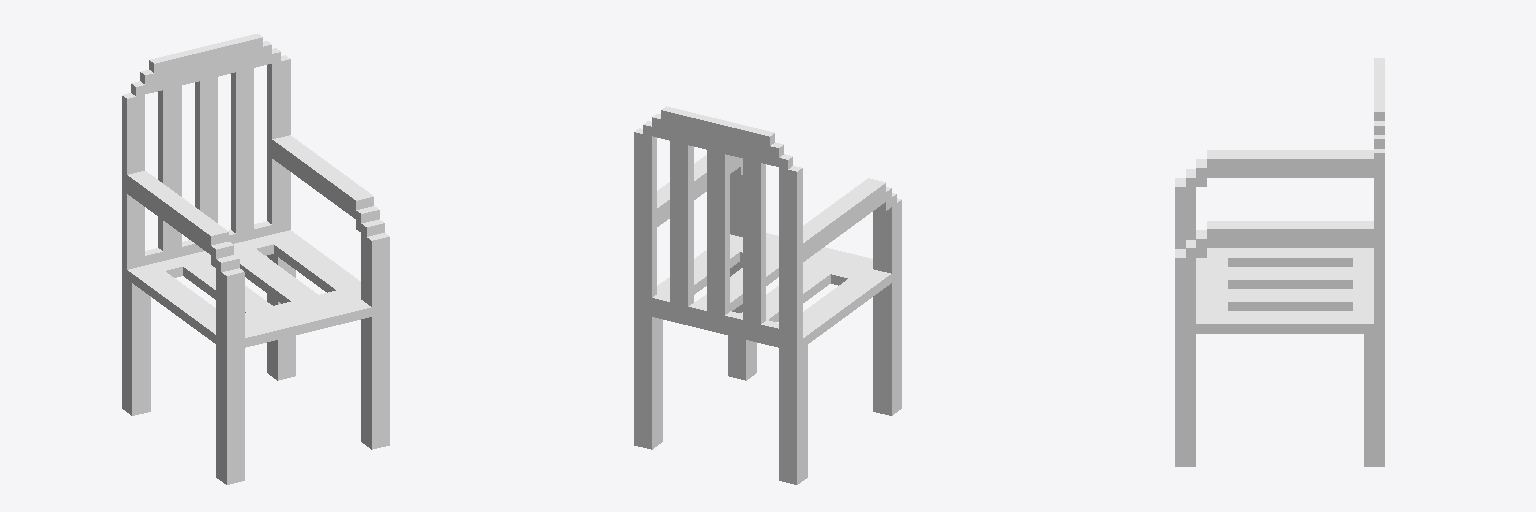
Rendered from PlasticChair.obj.
3 views of the same model, side by side, from view 1: azimuth 30°, elevation 25°; view 2: azimuth 150°, elevation 25°; view 3: azimuth 270°, elevation 25° (orthographic).
Parts seen in each view (by area): view 1: object 1; view 2: object 1; view 3: object 1.
Part boxes in pixels (x1,y1,x2,y2): object 1: (122,34,389,484); object 1: (634,106,901,484); object 1: (1175,58,1384,466).
Size of the model in its own units: 1.8 by 3.6 by 2.